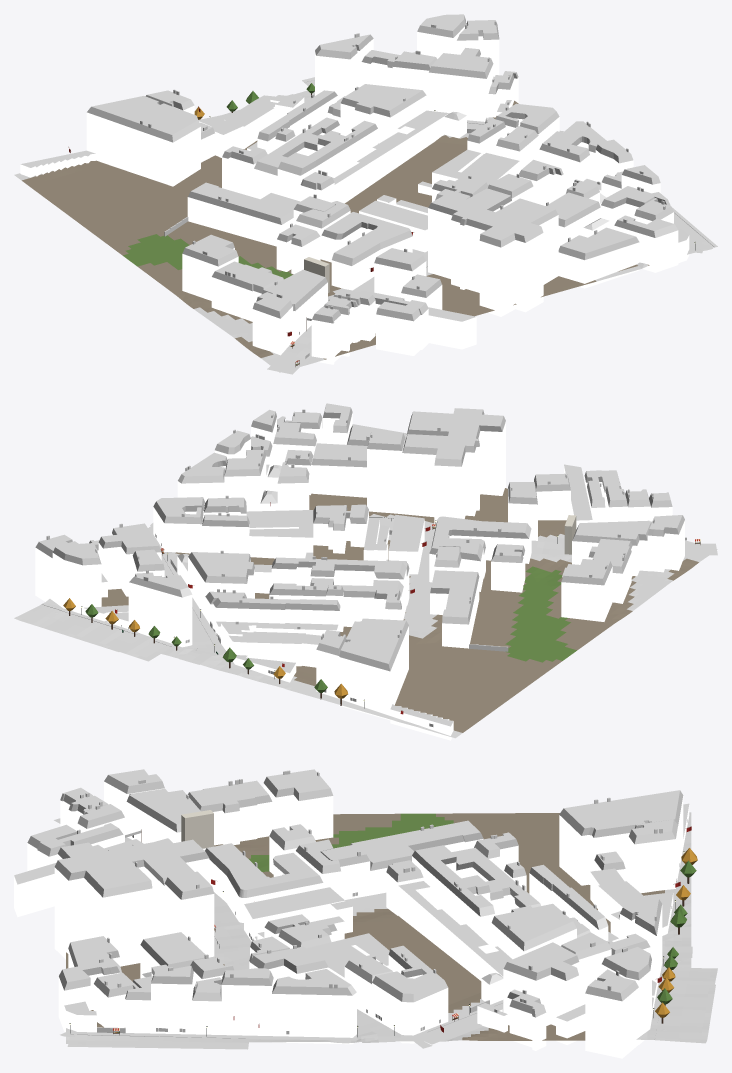
File: zone_J5.glb
3 views of the same model, one above another, from view 1: azimuth 30°, elevation 25°; view 2: azimuth 150°, elevation 25°; view 3: azimuth 270°, elevation 25° (orthographic). The views are drawn at different scales.
Parts seen in each view (by area): view 1: zone_J5_batiments, zone_J5_terrain, zone_J5_sol_NOCOL; view 2: zone_J5_batiments, zone_J5_terrain, zone_J5_sol_NOCOL, zone_J5_decor_NOCOL; view 3: zone_J5_batiments, zone_J5_terrain, zone_J5_sol_NOCOL, zone_J5_decor_NOCOL, zone_J5_commune_NOCOL.
Boxes of the visible parts, x1,y1,x2,y2 form: zone_J5_batiments: (20, 14, 689, 364); zone_J5_terrain: (14, 90, 712, 372); zone_J5_sol_NOCOL: (216, 52, 717, 374); zone_J5_batiments: (35, 403, 684, 740); zone_J5_terrain: (45, 488, 717, 738); zone_J5_sol_NOCOL: (14, 520, 717, 664); zone_J5_decor_NOCOL: (63, 517, 558, 708); zone_J5_batiments: (14, 769, 689, 1058); zone_J5_terrain: (66, 812, 691, 1043); zone_J5_sol_NOCOL: (54, 818, 717, 1049); zone_J5_decor_NOCOL: (69, 848, 697, 1036); zone_J5_commune_NOCOL: (113, 819, 691, 1034).
Bounding box in the file's own units: 213 × 39.32 × 240.
